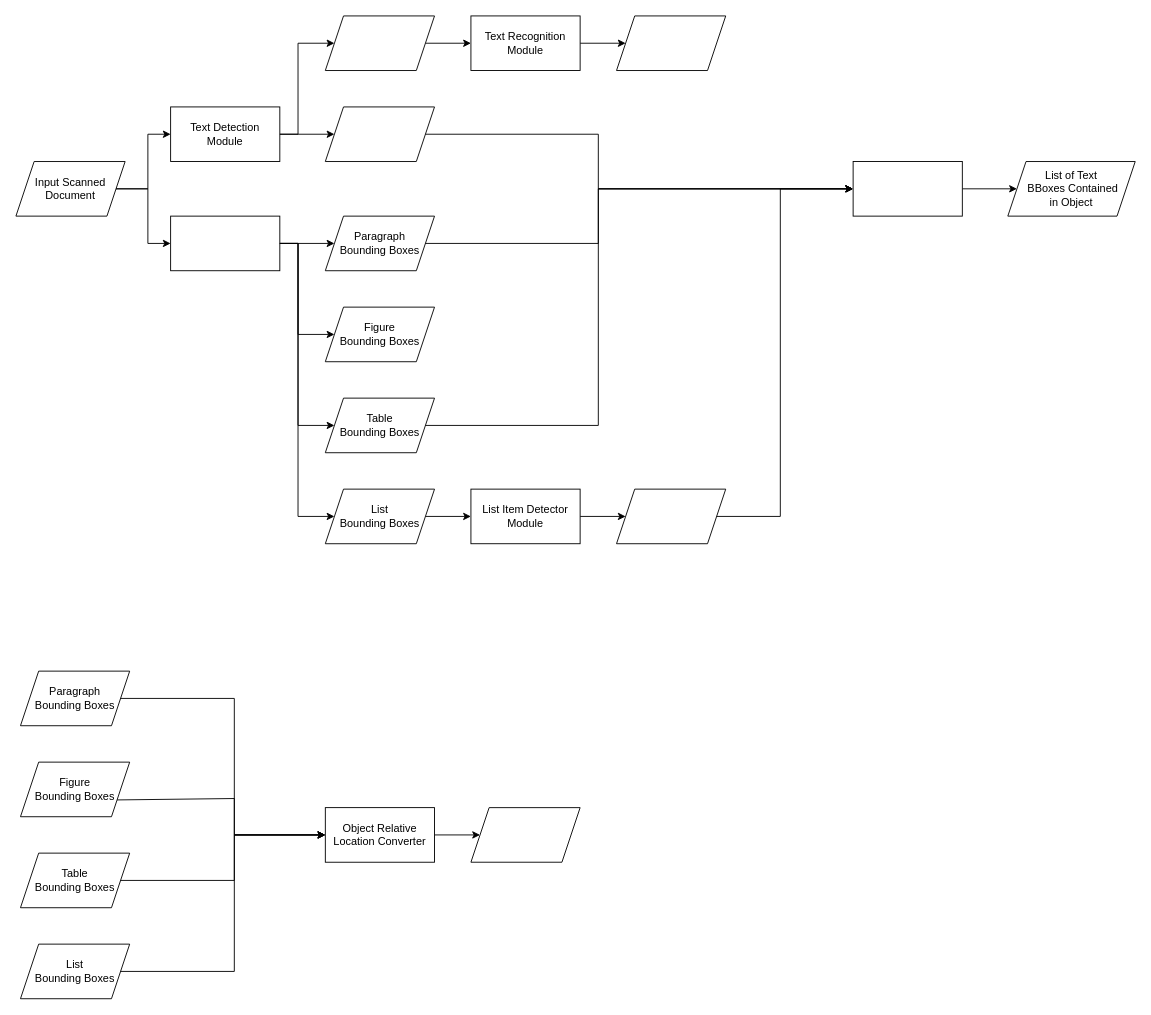
Some shapes in this 1151 by 1015 pixel diagram are drawn without their labels. The shapes that lost their labels are listed below. From the top down, each one's centre as x and y in pixels, then its label:
At pixel 379 43: "Cropped Text Images".
At pixel 671 43: "Text Content".
At pixel 379 134: "Text Bounding Boxes".
At pixel 907 188: "Text Assigner Module".
At pixel 225 243: "Document Object Detection Module".
At pixel 671 516: "List Item Bounding Boxes".
At pixel 525 834: "Relative Location of Object in Document".
